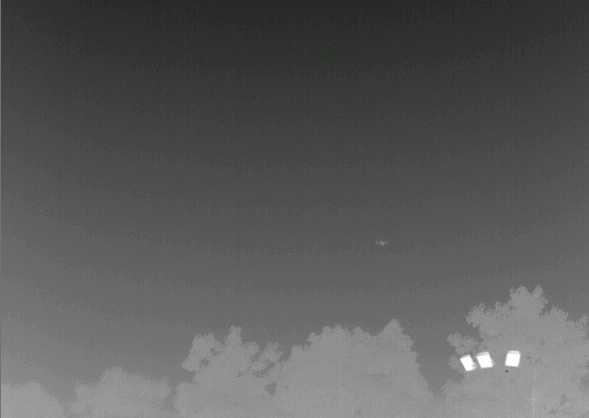dim target: (375, 239, 390, 247)
